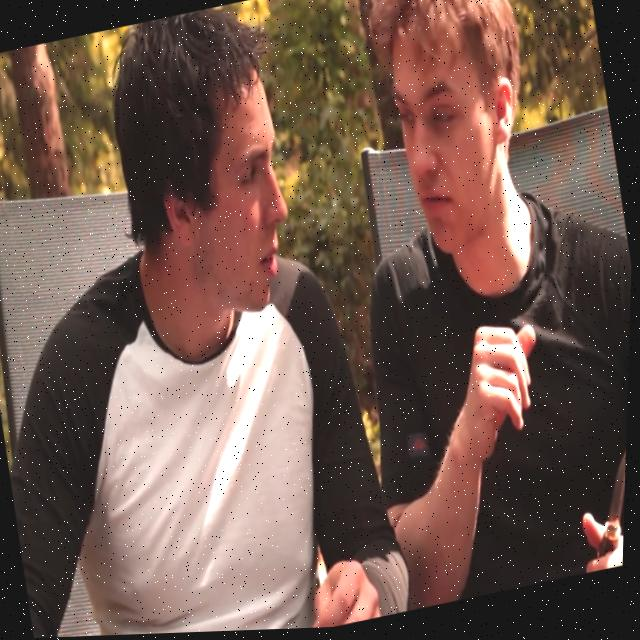knife: (582, 444, 629, 561)
